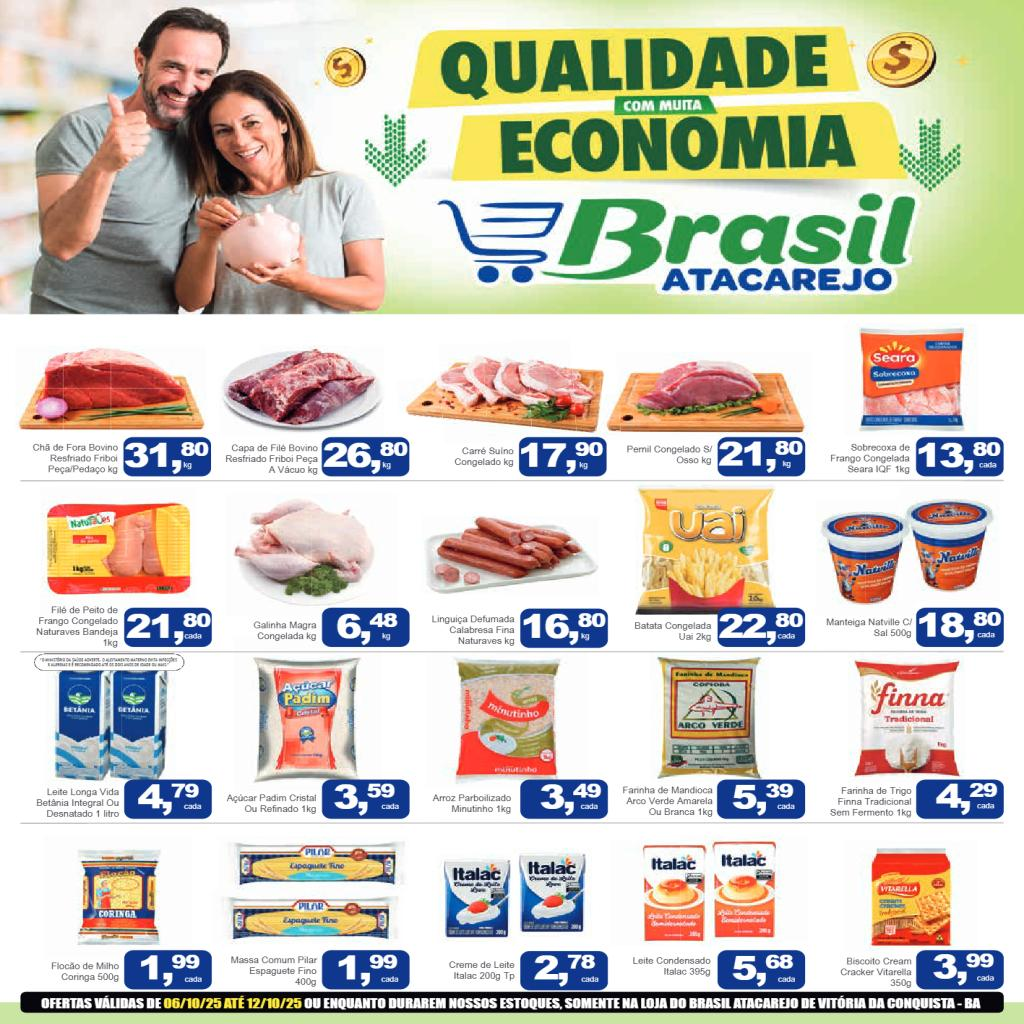price: (522, 612, 606, 647), (322, 441, 408, 475), (520, 441, 604, 475), (918, 441, 1002, 475), (919, 610, 1002, 644), (719, 440, 803, 473), (719, 613, 804, 645), (126, 613, 211, 645), (124, 442, 208, 474), (732, 782, 796, 818), (137, 782, 204, 816), (933, 952, 996, 988), (334, 782, 400, 816), (533, 954, 601, 987), (731, 953, 798, 986), (538, 782, 601, 817), (336, 612, 400, 646), (337, 954, 401, 988), (140, 953, 204, 986), (936, 783, 997, 816)
product_text: (34, 604, 120, 648), (222, 442, 320, 477), (622, 785, 714, 820), (229, 955, 318, 989), (31, 442, 119, 476), (33, 786, 121, 820), (828, 785, 914, 819), (429, 614, 516, 647), (829, 442, 911, 476), (838, 956, 913, 989), (224, 792, 319, 816), (624, 443, 714, 465), (823, 616, 913, 638), (631, 955, 712, 977), (632, 620, 712, 642), (250, 619, 318, 644), (49, 960, 120, 983), (431, 794, 512, 814), (447, 959, 516, 982), (452, 445, 516, 468)
